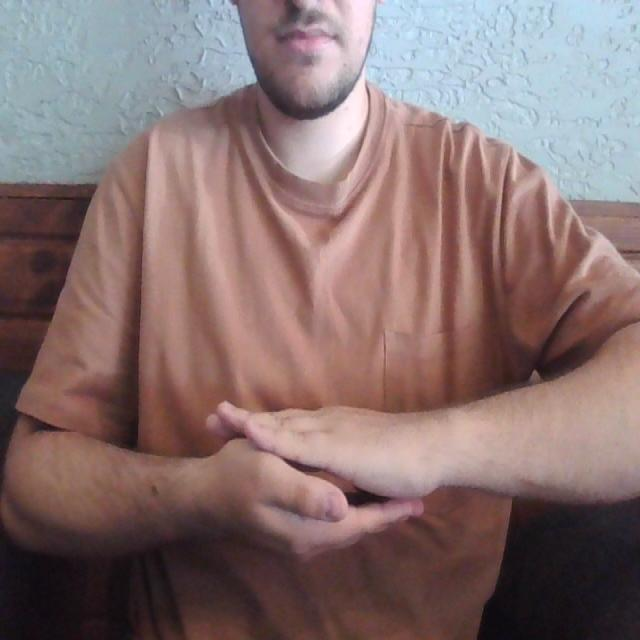Arkadas: (134, 382, 492, 574)
